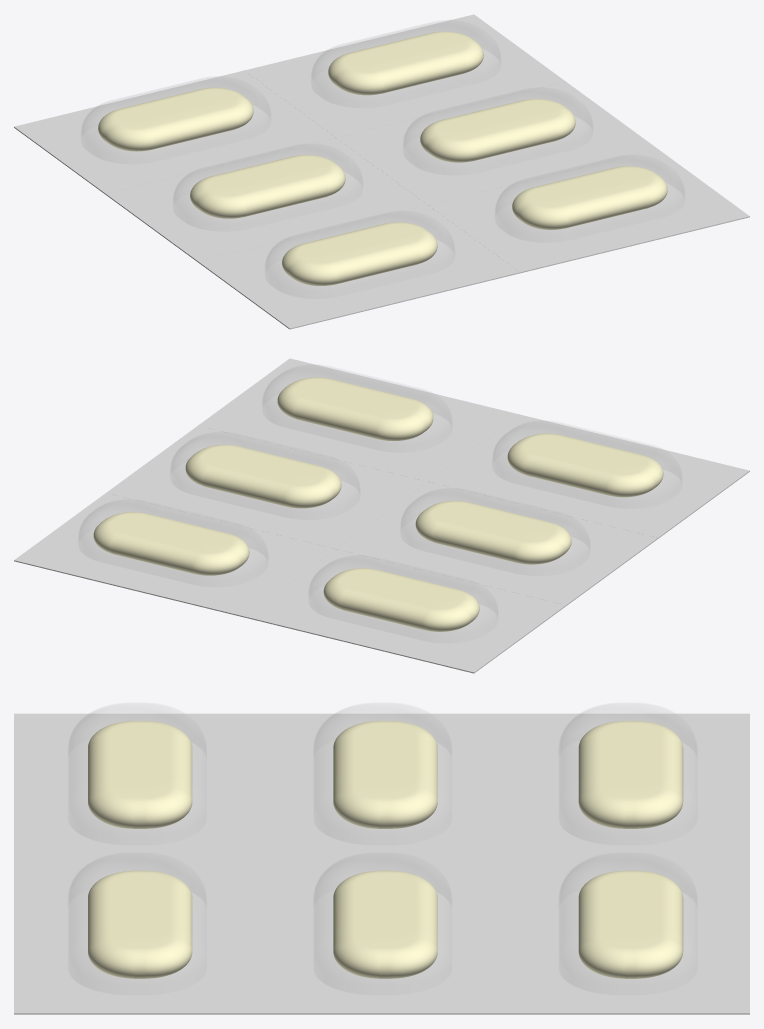
File: Capsule_Pill_2x3_Beige.glb
The picture shows the model from 3 angles, top to bottom: view 1: azimuth 30°, elevation 25°; view 2: azimuth 150°, elevation 25°; view 3: azimuth 270°, elevation 25°; orthographic projection. The views are drawn at different scales.
Parts seen in each view (by area): view 1: Capsule_Pill_Base_2x3, Capsule_Pill_2x3, Capsule_Pill_Lid_2x3, Capsule_Pill_Shell_2x3; view 2: Capsule_Pill_Base_2x3, Capsule_Pill_2x3, Capsule_Pill_Lid_2x3, Capsule_Pill_Shell_2x3; view 3: Capsule_Pill_Base_2x3, Capsule_Pill_2x3, Capsule_Pill_Lid_2x3, Capsule_Pill_Shell_2x3.
Part boxes in pixels (left/top/right/bottom): Capsule_Pill_Base_2x3: left=14, top=14, right=749, bottom=329; Capsule_Pill_2x3: left=98, top=31, right=667, bottom=285; Capsule_Pill_Lid_2x3: left=80, top=48, right=685, bottom=299; Capsule_Pill_Shell_2x3: left=81, top=20, right=684, bottom=271; Capsule_Pill_Base_2x3: left=14, top=358, right=749, bottom=673; Capsule_Pill_2x3: left=93, top=377, right=663, bottom=631; Capsule_Pill_Lid_2x3: left=78, top=393, right=682, bottom=643; Capsule_Pill_Shell_2x3: left=78, top=365, right=681, bottom=616; Capsule_Pill_Base_2x3: left=14, top=713, right=749, bottom=1014; Capsule_Pill_2x3: left=88, top=721, right=683, bottom=978; Capsule_Pill_Lid_2x3: left=67, top=739, right=697, bottom=995; Capsule_Pill_Shell_2x3: left=68, top=703, right=696, bottom=905.
Size of the model in its own units: 6.8 by 0.4666 by 7.06.
